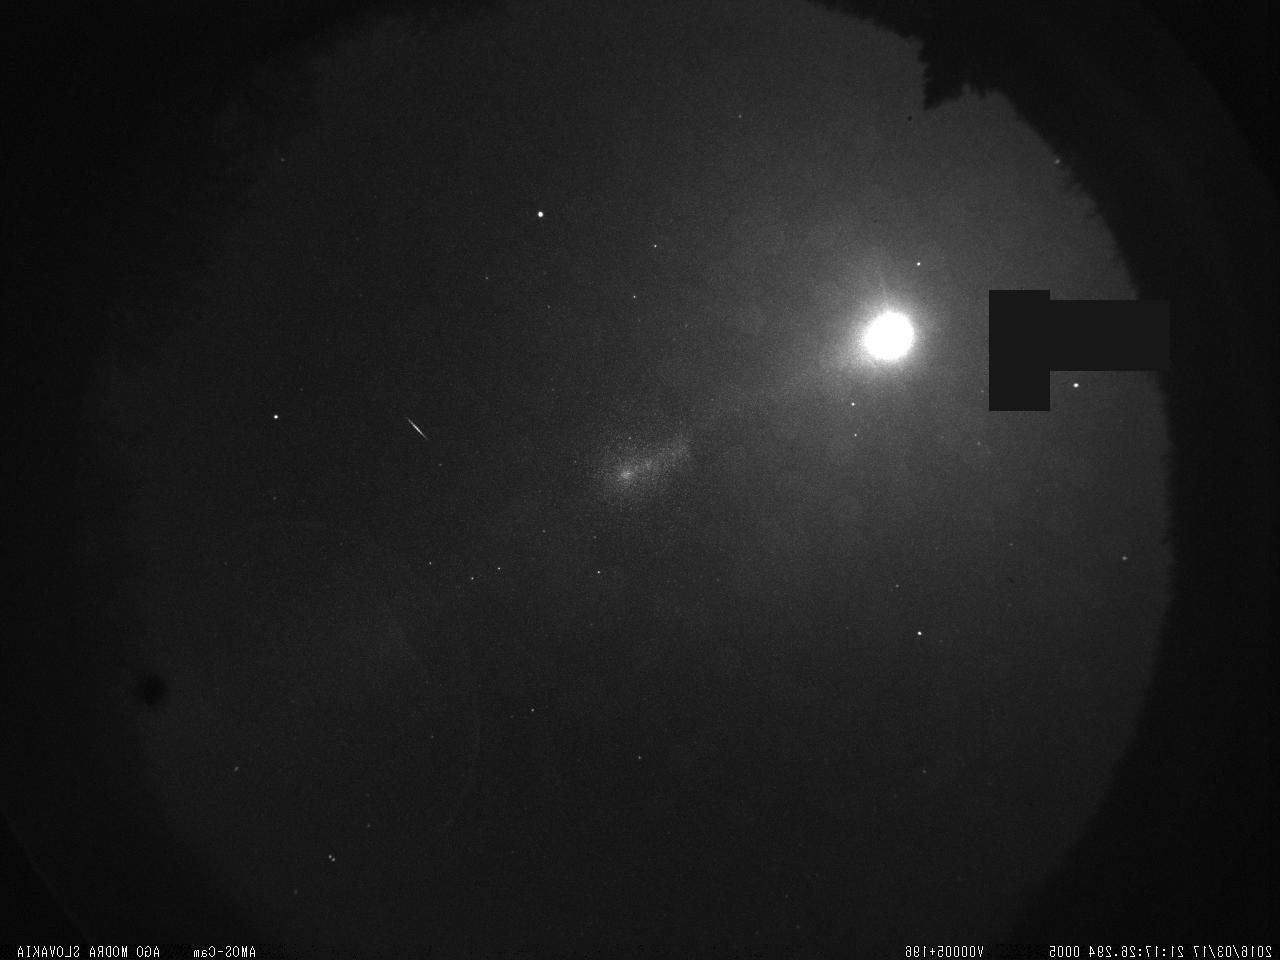meteor: (395, 407, 440, 459)
